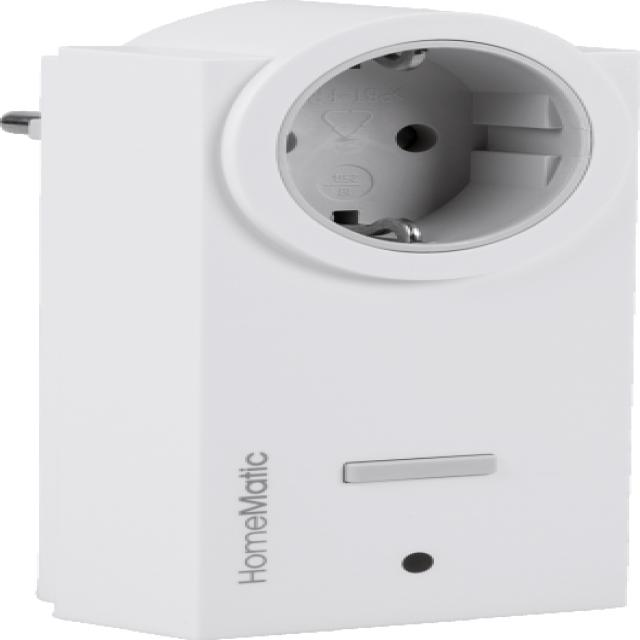typeb: (136, 11, 640, 336)
